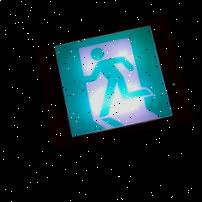emergency_exit: (52, 24, 174, 140)
